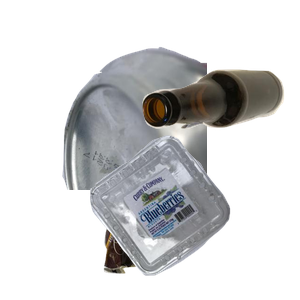glass: (140, 67, 300, 188)
metal: (60, 44, 300, 224)
plastic: (88, 133, 300, 300)
trash: (101, 157, 270, 300)
